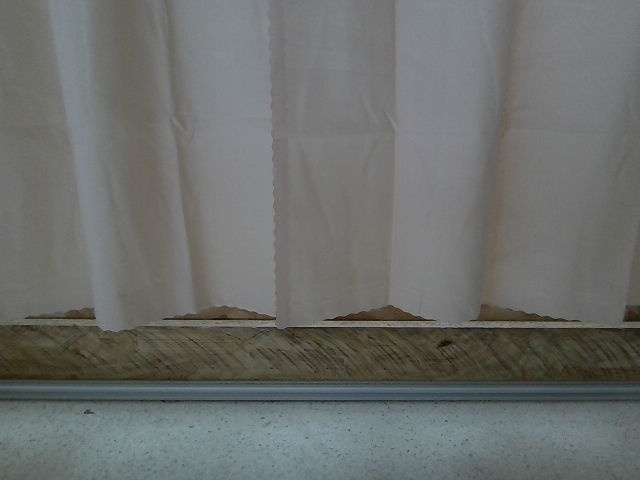curtain: (0, 0, 640, 336)
